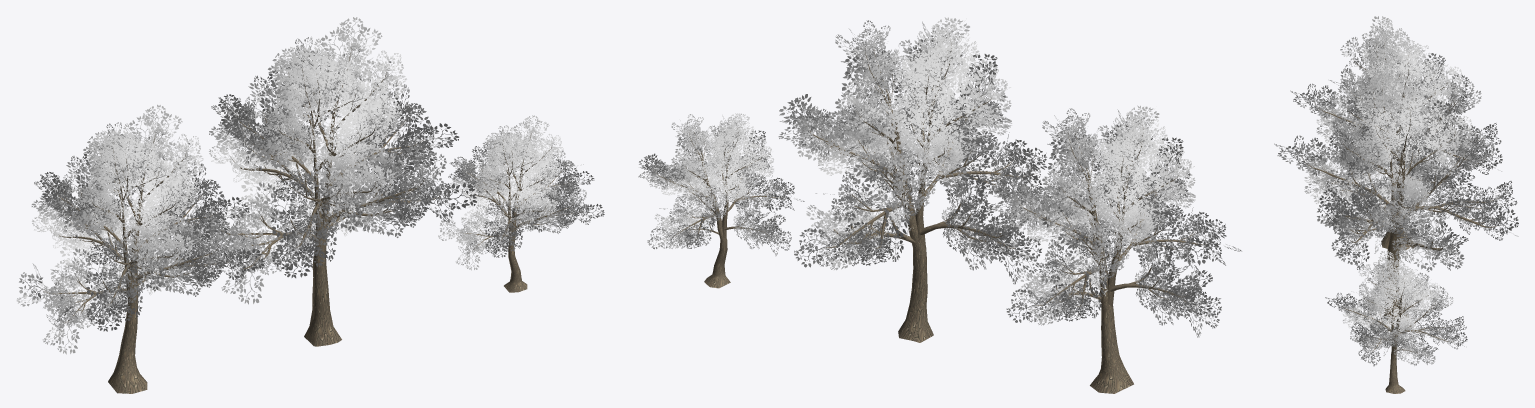
The model's file is Curved Jungle A3.fbx.
3 renders of one model, left to right at view 1: azimuth 30°, elevation 25°; view 2: azimuth 150°, elevation 25°; view 3: azimuth 270°, elevation 25°, orthographic. The views are drawn at different scales.
Visible parts, largest first — view 1: leaves.037, leaves.038, leaves.043, tree.214, tree.215, tree.217; view 2: leaves.037, leaves.038, leaves.043, tree.214, tree.215, tree.217; view 3: leaves.037, leaves.038, leaves.043, tree.214, tree.217, tree.215.
Part boxes in pixels (x1,y1,x2,y2): leaves.037: (194,17,476,304); leaves.038: (16,104,264,354); leaves.043: (438,115,604,270); tree.214: (221,44,440,346); tree.215: (45,132,231,393); tree.217: (464,133,579,292); leaves.037: (778,17,1063,284); leaves.038: (993,105,1241,337); leaves.043: (638,113,804,256); tree.214: (806,43,1034,342); tree.215: (1017,125,1206,393); tree.217: (656,128,784,288); leaves.037: (1274,58,1518,271); leaves.038: (1290,16,1502,201); leaves.043: (1325,251,1467,366); tree.214: (1301,89,1499,323); tree.217: (1341,265,1452,393); tree.215: (1315,43,1483,250).
Size of the model in its own units: 5923 by 3090 by 2796.
